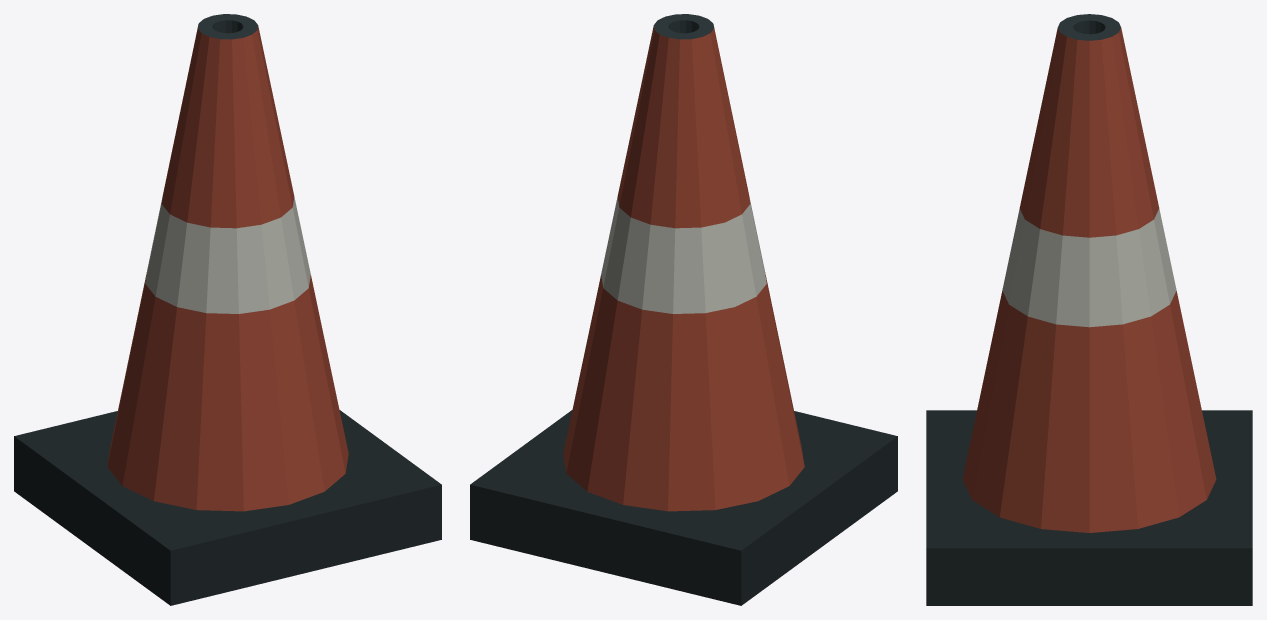
3 views of the same model, side by side, from view 1: azimuth 30°, elevation 25°; view 2: azimuth 150°, elevation 25°; view 3: azimuth 270°, elevation 25° (orthographic). The views are drawn at different scales.
Visible parts, largest first — view 1: a46; view 2: a46; view 3: a46.
Boxes of the visible parts, x1,y1,x2,y2 form: a46: (14,14,441,605); a46: (470,14,897,605); a46: (926,14,1252,605).
Bounding box in the file's own units: 0.36 × 0.62 × 0.36.
